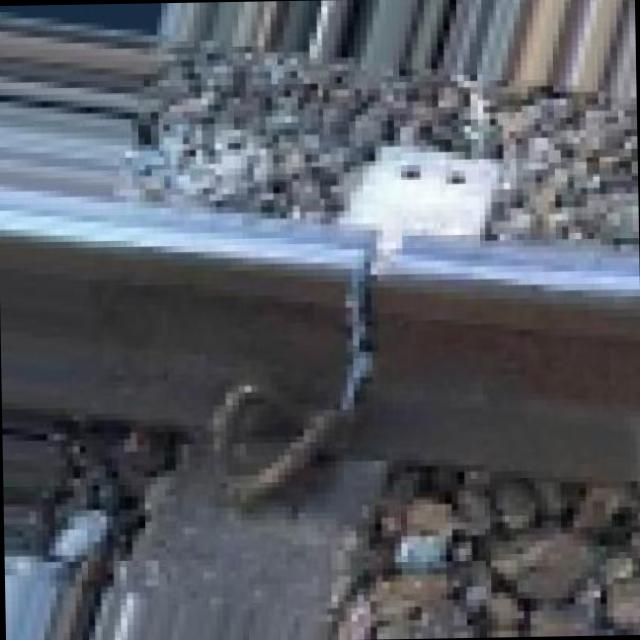defective: (240, 133, 502, 640)
